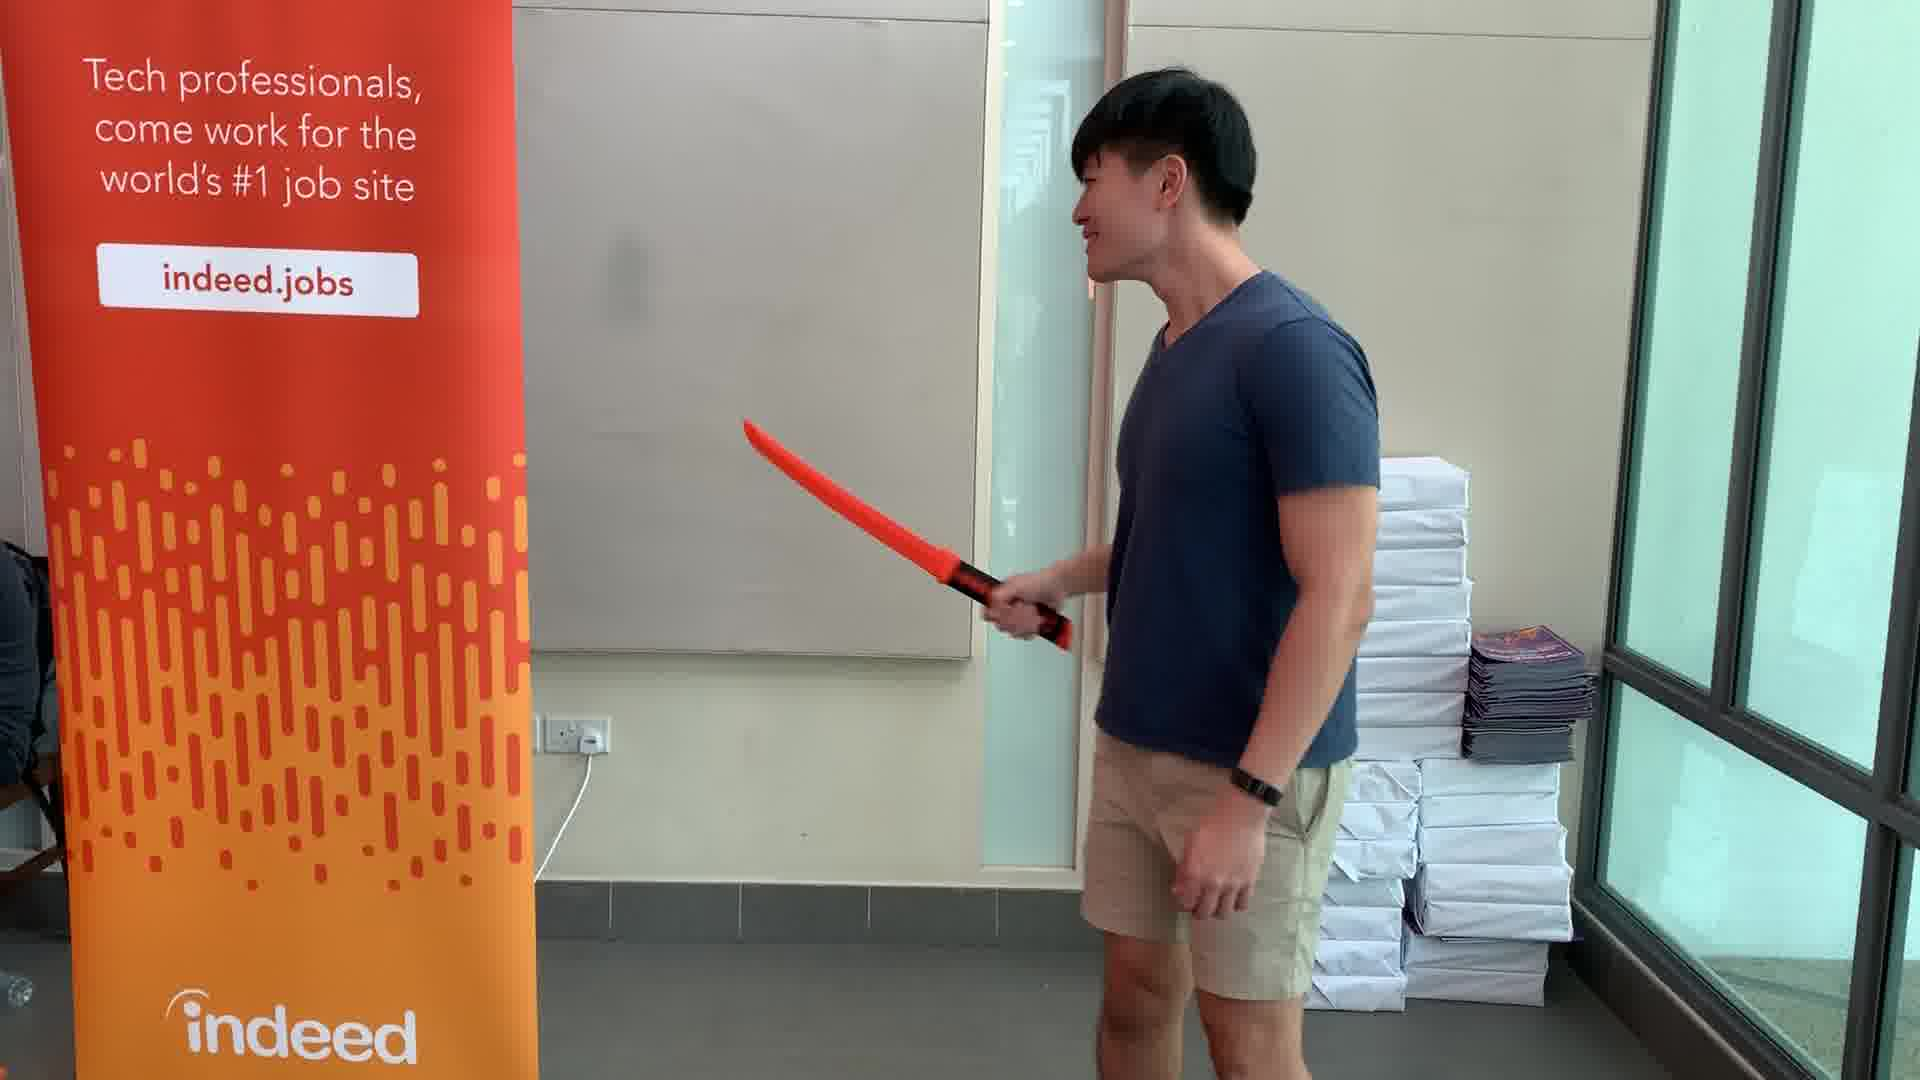knife: (735, 415, 1085, 665)
